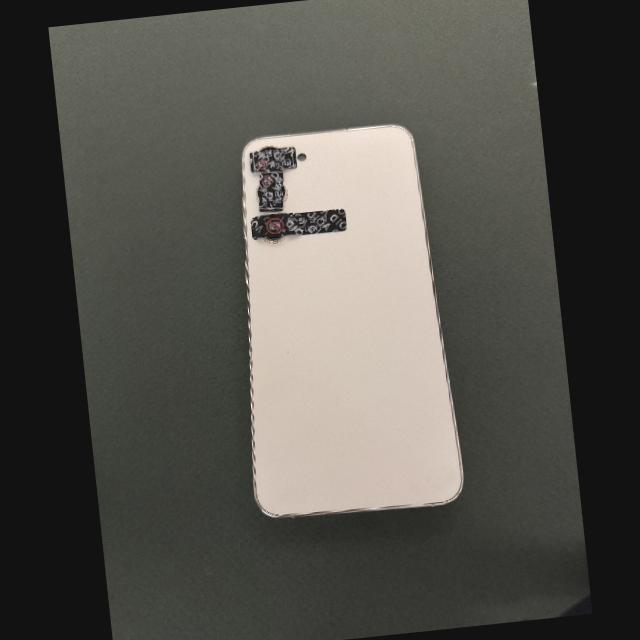lens: (261, 235, 286, 243), (259, 145, 277, 150), (283, 185, 287, 203)
phone: (242, 125, 462, 517)
sticker: (250, 209, 346, 239), (249, 147, 297, 172), (259, 168, 283, 212)
